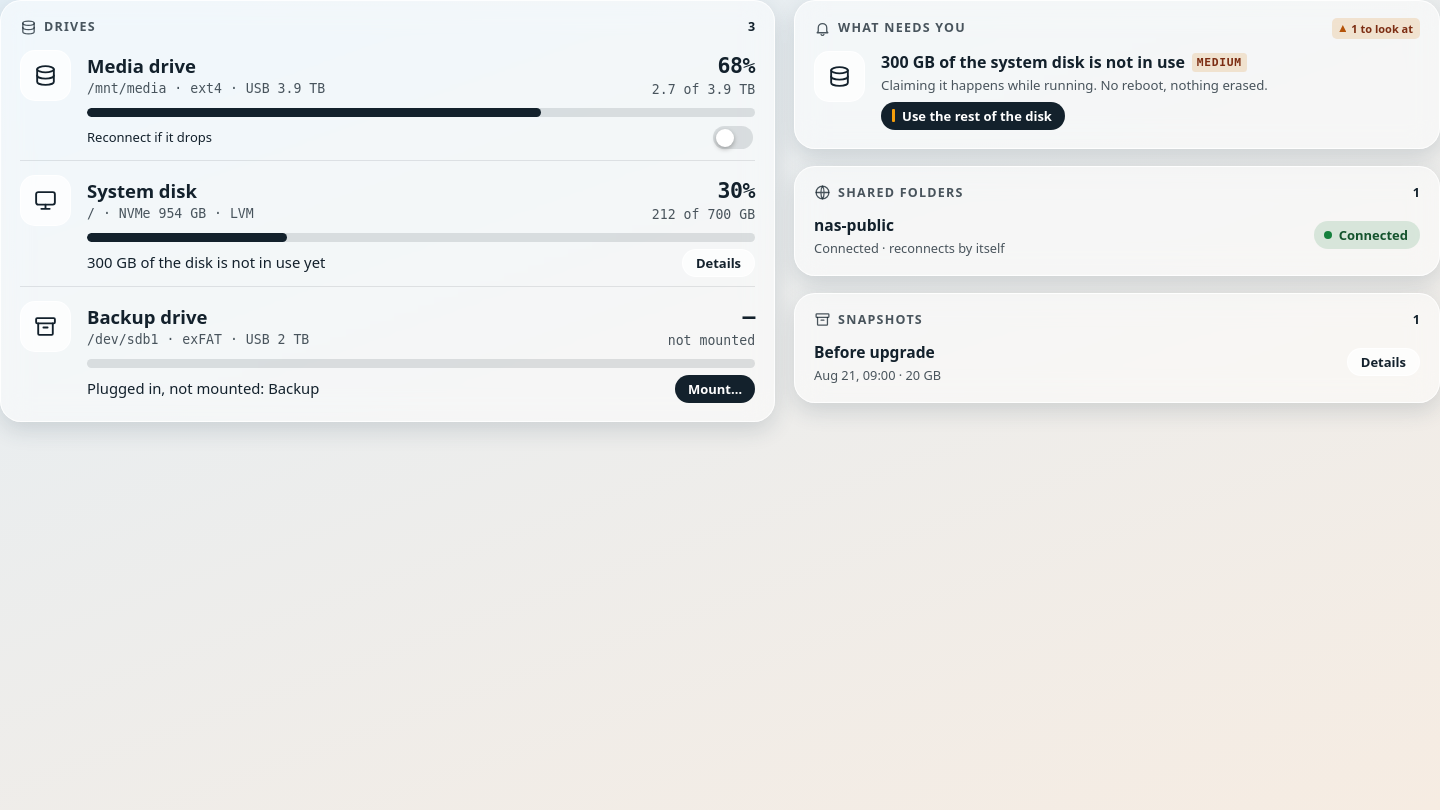
the Launcher's top of Storage › offers the unused space as the Drives tab does, through the approval dialog at its tier
The width and height of the screenshot is (1440, 810).
Expected: the text "300 GB of the system disk is not in use" is shown, [881,51,1185,73]
Click the button "Use the rest of the disk": (973, 116) [881,102,1065,130]
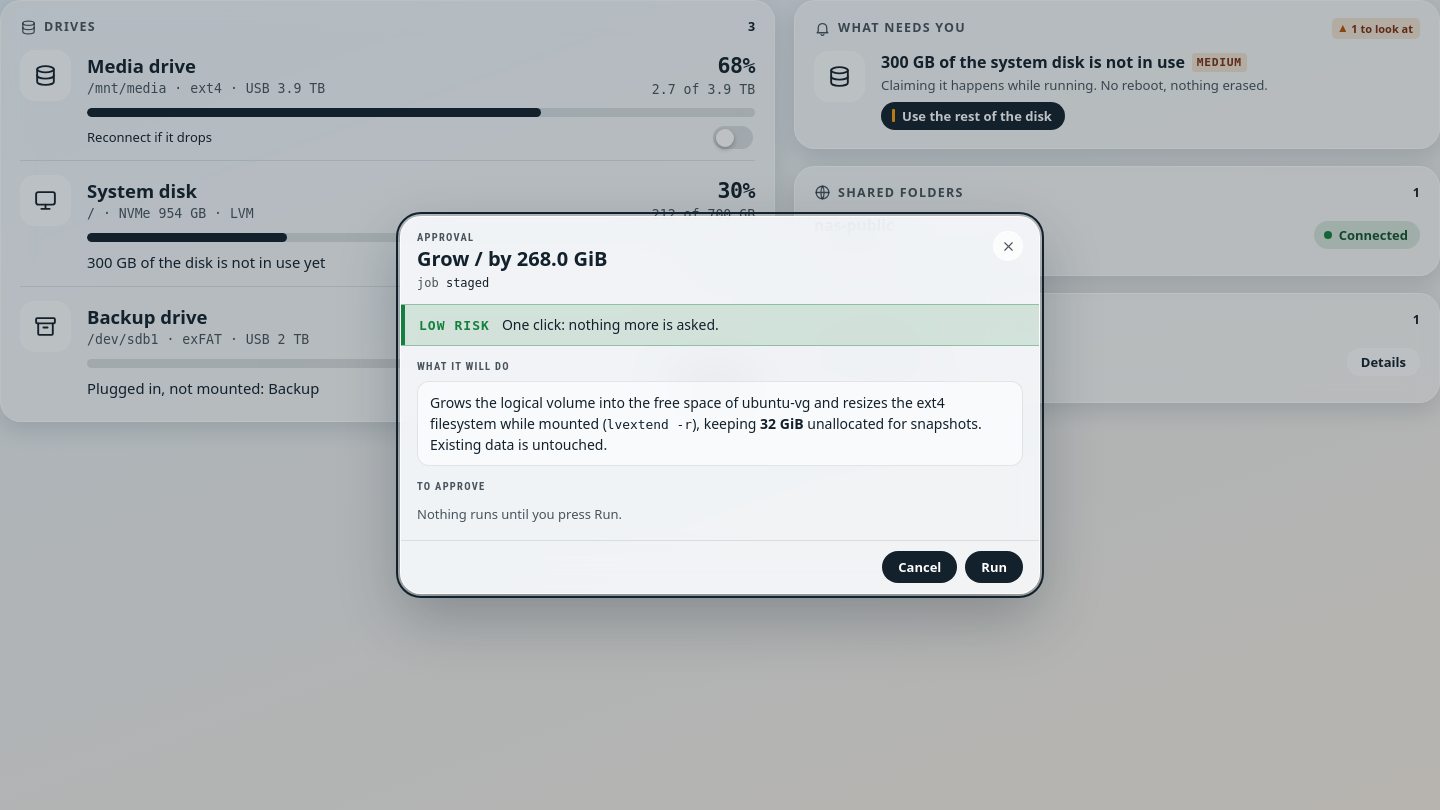
Expected: the dialog "Grow / by" is shown, [400,216,1040,594]
